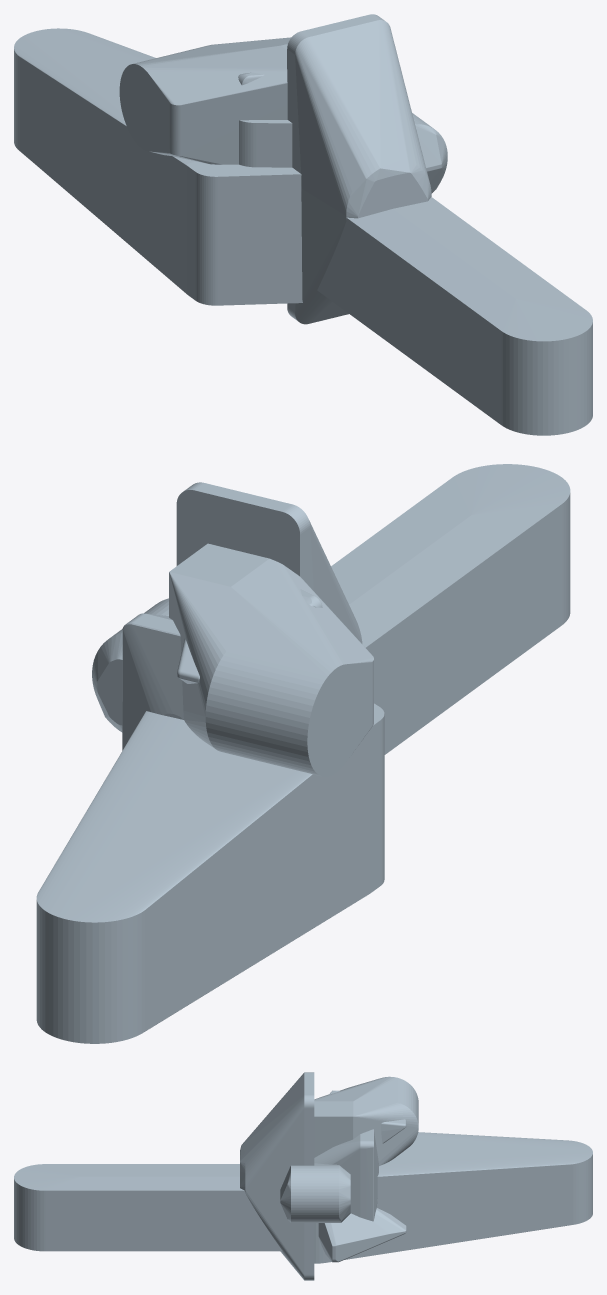
Rendered from openyam.glb.
3 renders of one model, top to bottom at view 1: azimuth 30°, elevation 25°; view 2: azimuth 150°, elevation 25°; view 3: azimuth 270°, elevation 25°, orthographic. The views are drawn at different scales.
Parts seen in each view (by area): view 1: link3, link2, base, link4, link1, link5; view 2: link3, link2, link4, base, gripper, link5, tip_right; view 3: link2, link3, base, link4, link5, gripper, tip_left, tip_right.
Part boxes in pixels (bbox=[...]): link3: bbox=[14, 28, 302, 305]; link2: bbox=[317, 197, 592, 435]; base: bbox=[287, 14, 431, 324]; link4: bbox=[119, 37, 291, 164]; link1: bbox=[239, 120, 292, 167]; link5: bbox=[412, 113, 447, 193]; link3: bbox=[36, 703, 384, 1043]; link2: bbox=[331, 464, 570, 754]; link4: bbox=[169, 543, 373, 776]; base: bbox=[176, 482, 362, 643]; gripper: bbox=[122, 613, 183, 750]; link5: bbox=[92, 598, 168, 732]; tip_right: bbox=[177, 589, 322, 683]; link2: bbox=[14, 1164, 282, 1251]; link3: bbox=[314, 1132, 592, 1263]; base: bbox=[240, 1072, 314, 1280]; link4: bbox=[314, 1076, 418, 1165]; link5: bbox=[280, 1163, 350, 1222]; gripper: bbox=[314, 1129, 378, 1221]; tip_left: bbox=[318, 1208, 406, 1262]; tip_right: bbox=[329, 1090, 406, 1143].
Size of the model in its own units: 0.1672 by 0.2 by 0.5685.
